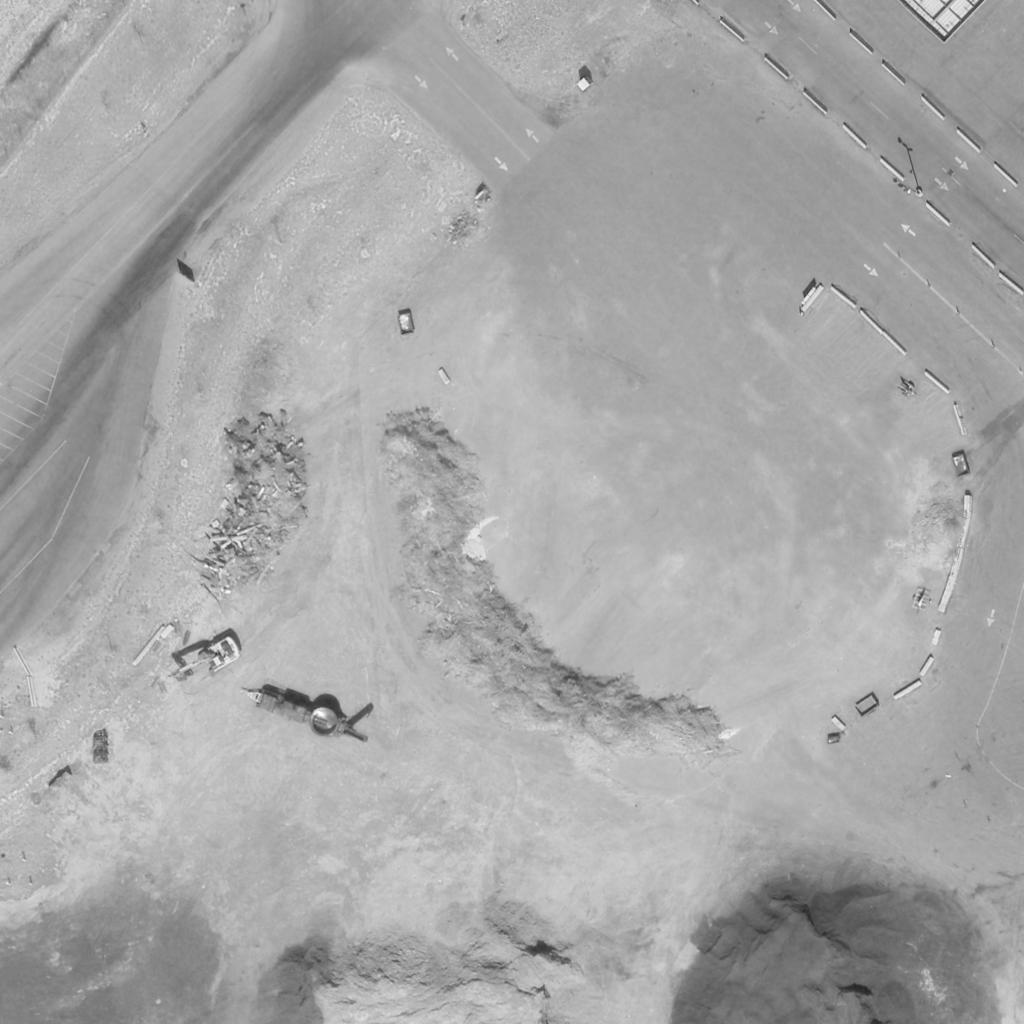vehicle: (165, 635, 245, 693)
